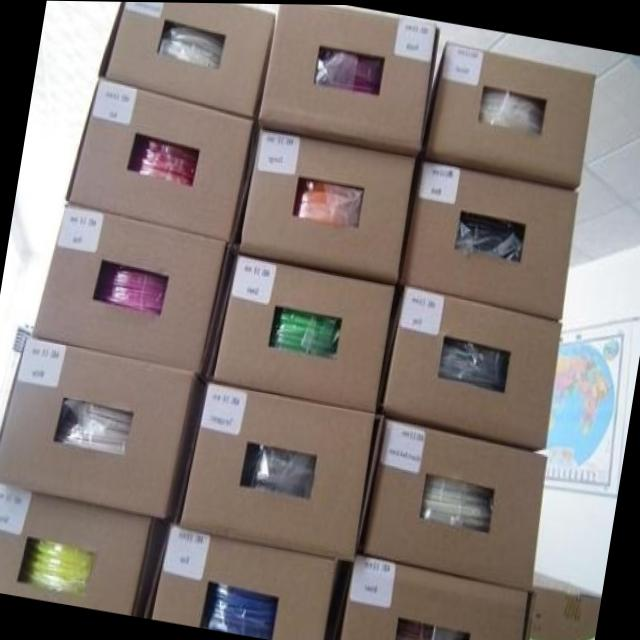box: (0, 337, 207, 518), (33, 203, 237, 385), (178, 382, 381, 560), (360, 413, 547, 591), (65, 78, 258, 242), (382, 284, 562, 452), (209, 252, 397, 412), (400, 161, 579, 319), (258, 3, 440, 156), (144, 506, 350, 640), (237, 128, 416, 282), (422, 42, 596, 191), (0, 482, 170, 615), (96, 1, 277, 122), (340, 554, 529, 640), (524, 568, 602, 640)
